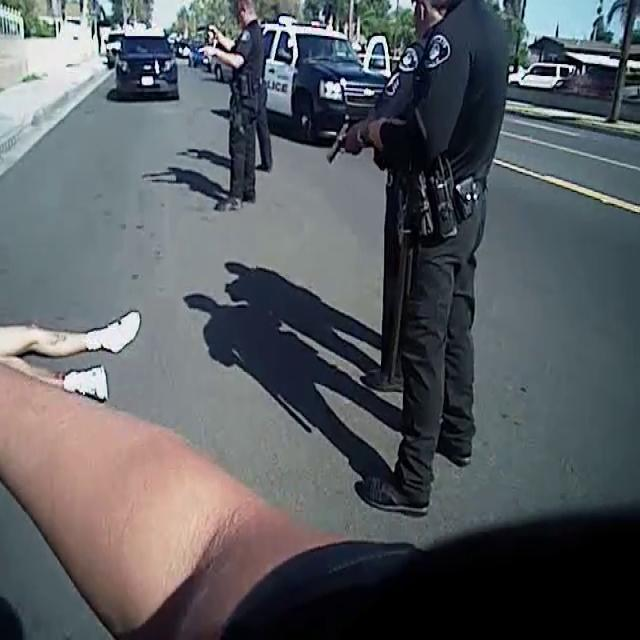gun: (322, 104, 371, 200), (191, 42, 214, 67), (190, 15, 214, 37)
